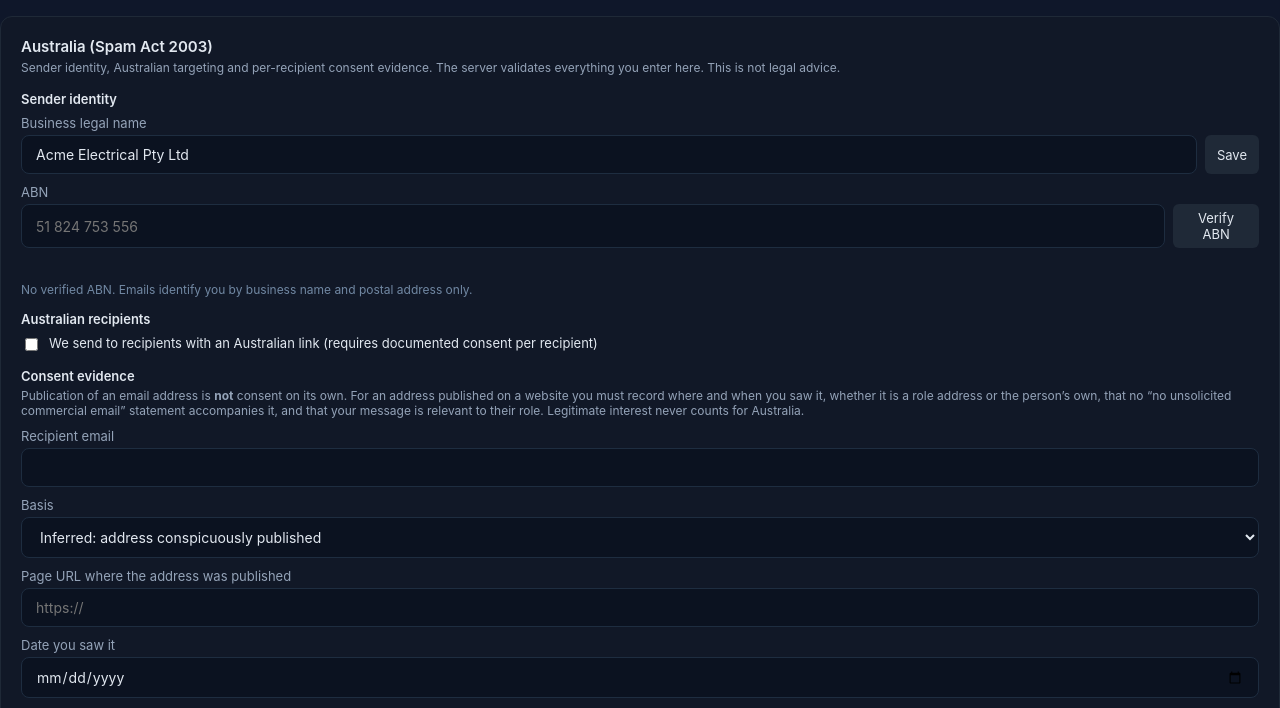
Scenario: AuComplianceSection — consent evidence › the UI does not bypass backend validation: unticked observations are sent as false and the server rejection is shown
Type "info@acme.test" into the field labelled "Recipient email" at x=640, y=468, box [21,448,1259,487]
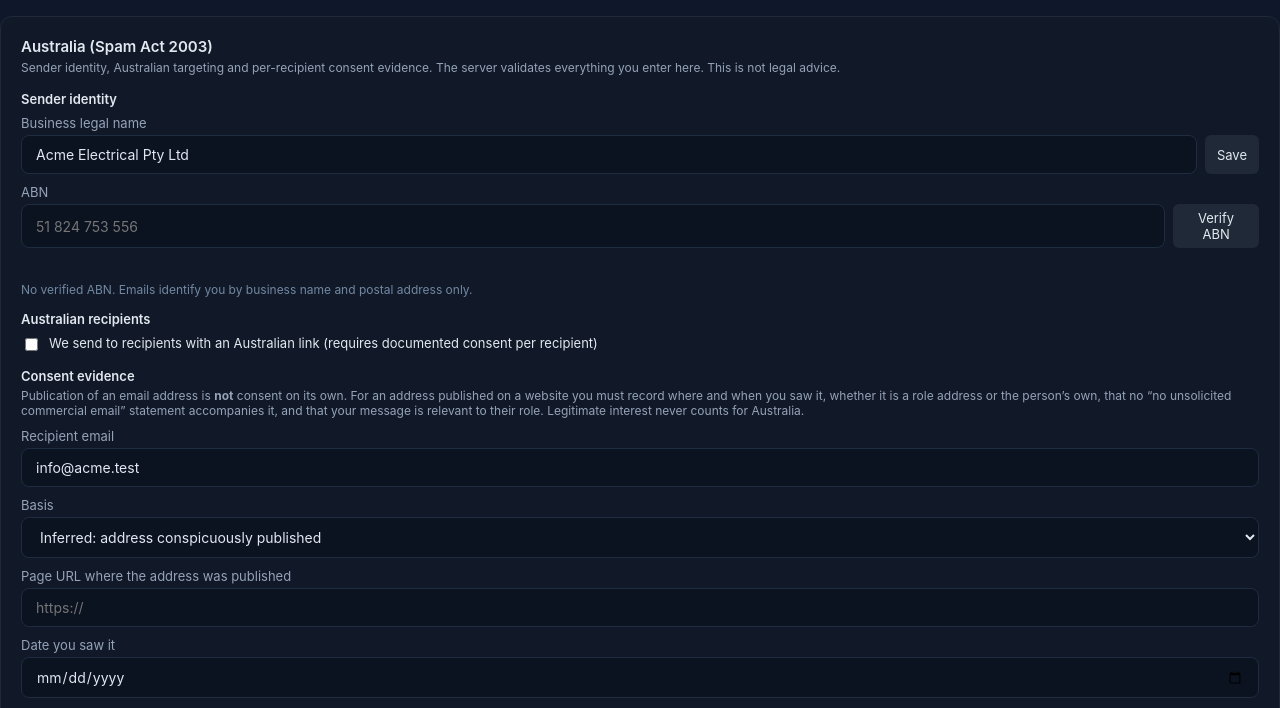
Type "https://acme.test/contact" into the field labelled "Page URL where the address was published" at x=640, y=608, box [21,588,1259,627]
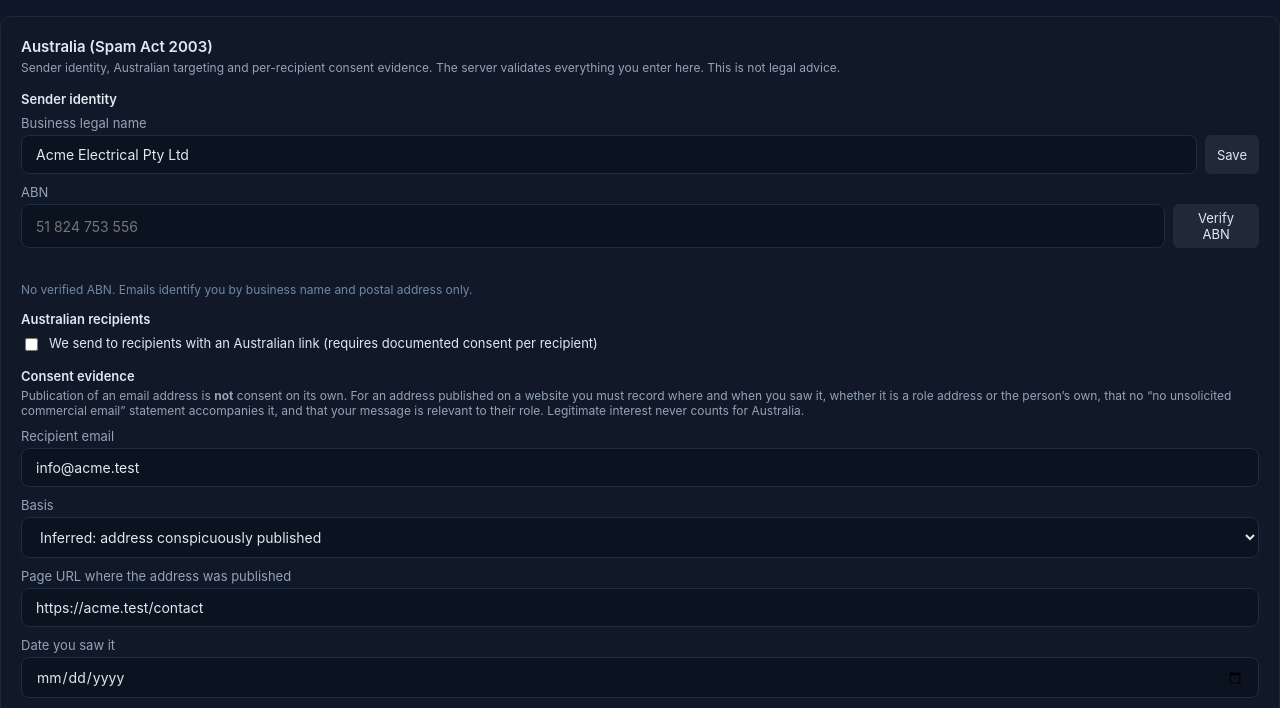
Type "2026-09-30" into the date field labelled "Date you saw it" at x=640, y=678, box [21,657,1259,698]
(page scrolled)
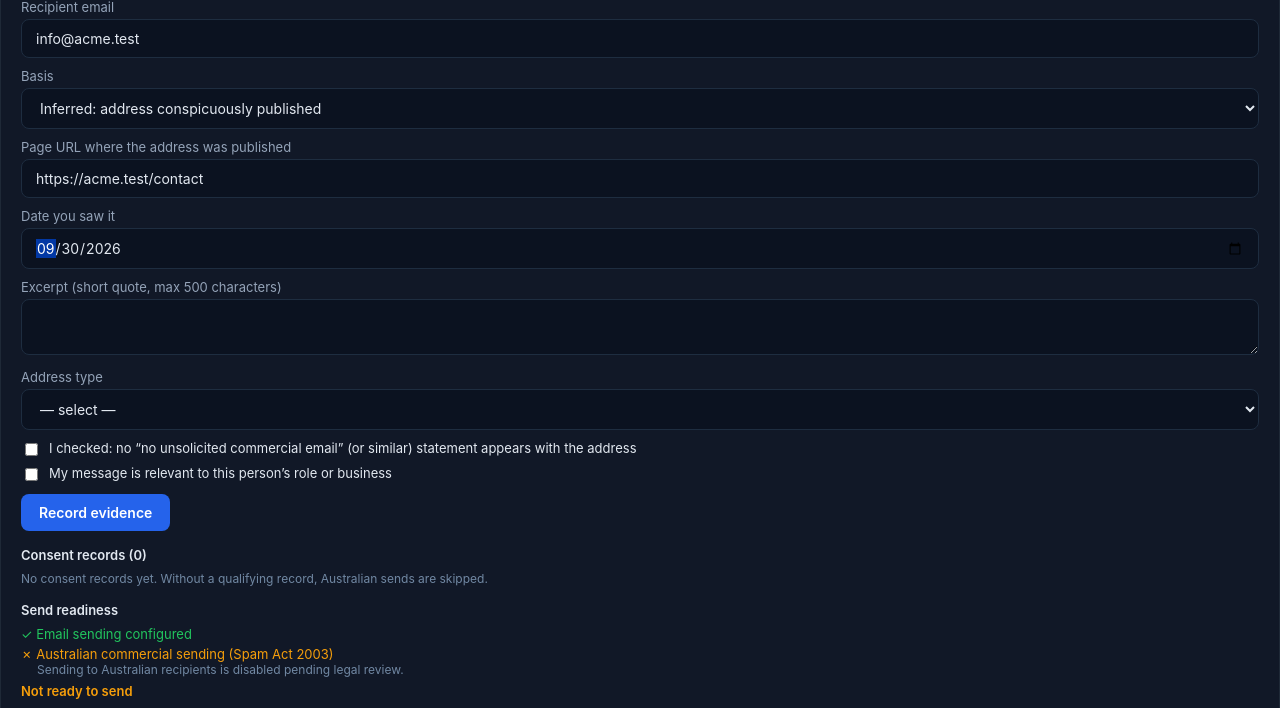
Select "Role address (e.g. info@, sales@)" in the dropdown labelled "Address type" at x=640, y=410, box [21,389,1259,430]
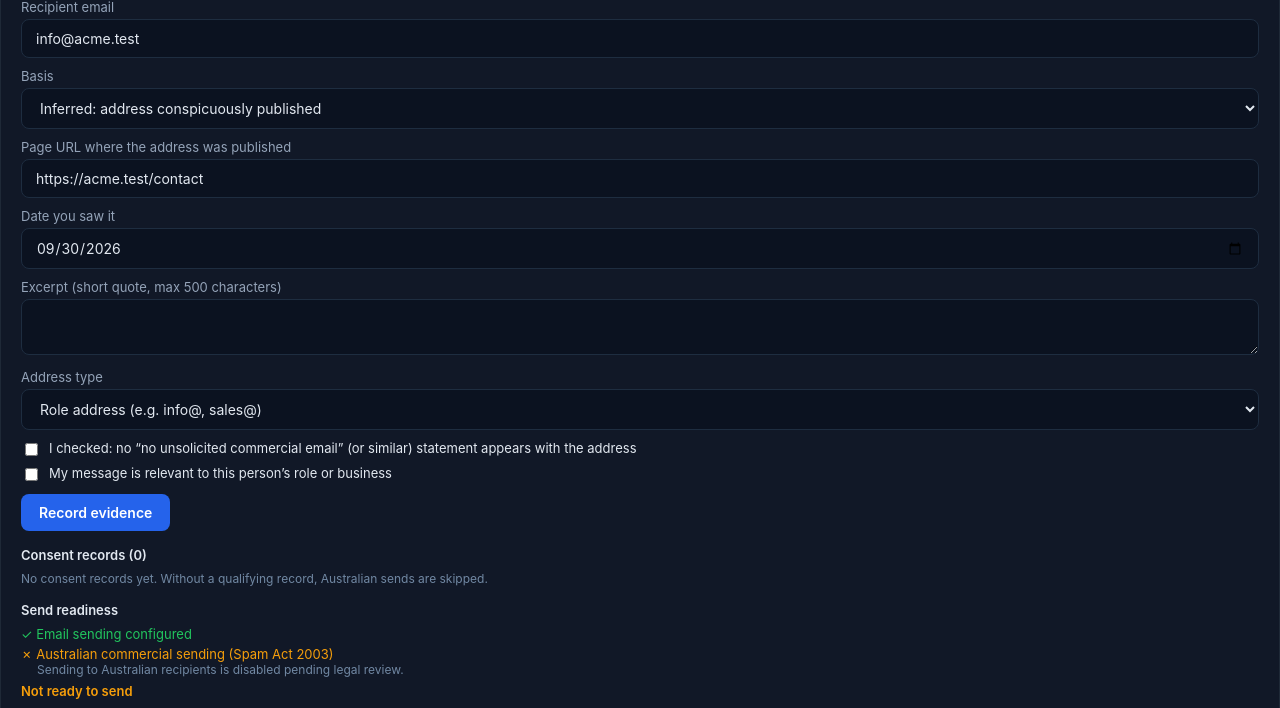
Click the button "Record evidence" at x=96, y=512, box [21,494,170,531]
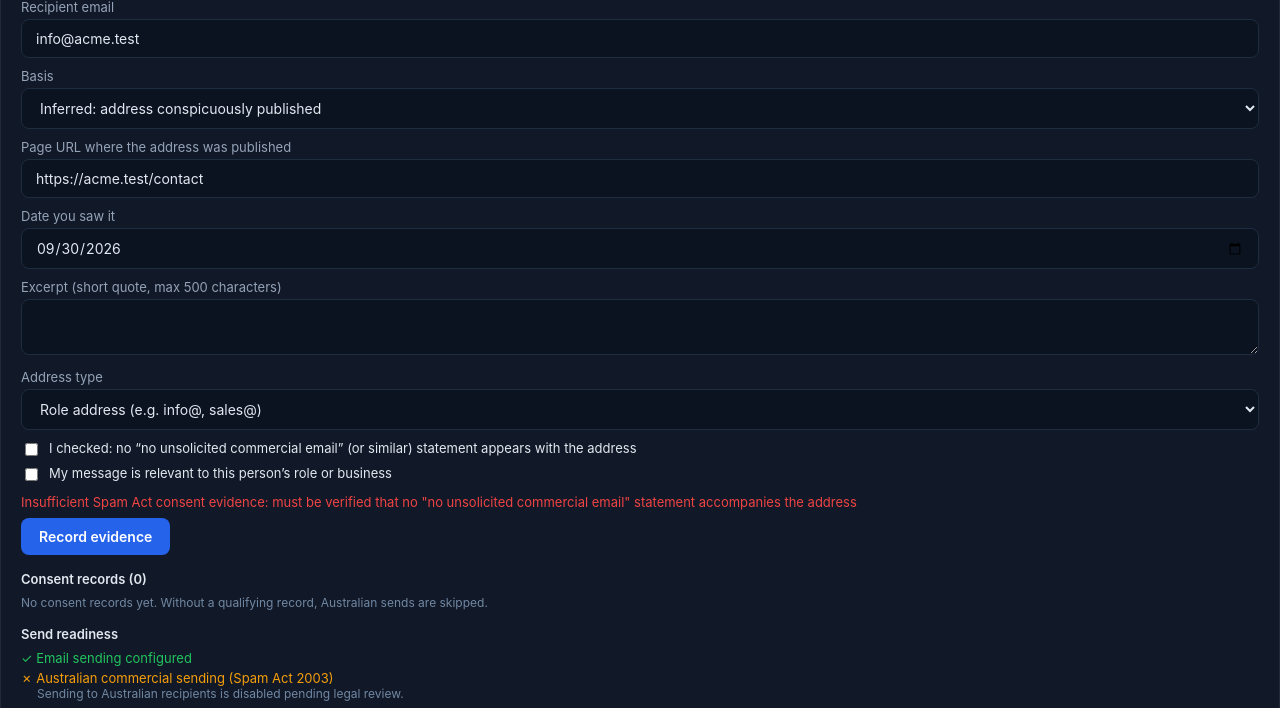
Expected: the message shows "Insufficient Spam Act consent evidence", [21,494,857,510]
